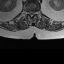CCS_normal: (30, 8, 33, 18)
LFS_normal: (35, 8, 38, 17)
LLS_normal: (33, 8, 35, 17)
RFS_normal: (25, 8, 28, 16)
RLS_normal: (28, 8, 30, 17)
